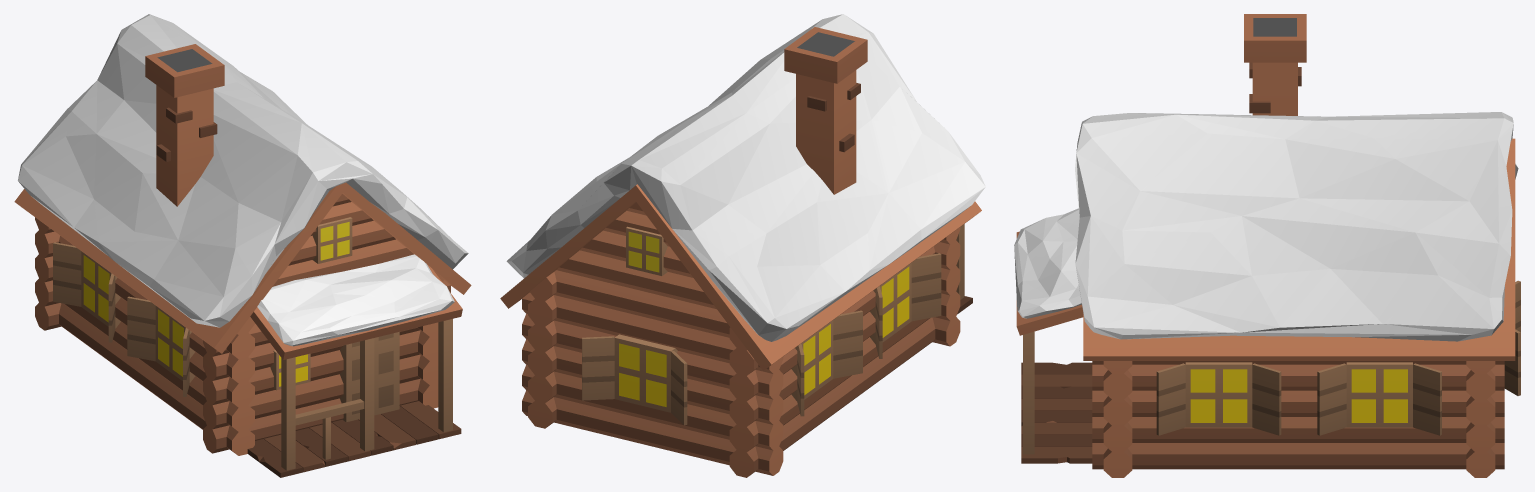
Rendered from wooden winter house 3.fbx.
3 views of the same model, side by side, from view 1: azimuth 30°, elevation 25°; view 2: azimuth 150°, elevation 25°; view 3: azimuth 270°, elevation 25° (orthographic). The views are drawn at different scales.
Parts seen in each view (by area): view 1: wooden winter house 3; view 2: wooden winter house 3; view 3: wooden winter house 3.
Boxes of the visible parts, box(x1,y1,x2,y2) form: wooden winter house 3: box(14, 14, 471, 477); wooden winter house 3: box(500, 14, 985, 477); wooden winter house 3: box(1014, 14, 1520, 477).
Bounding box in the file's own units: 607 × 694 × 905.
